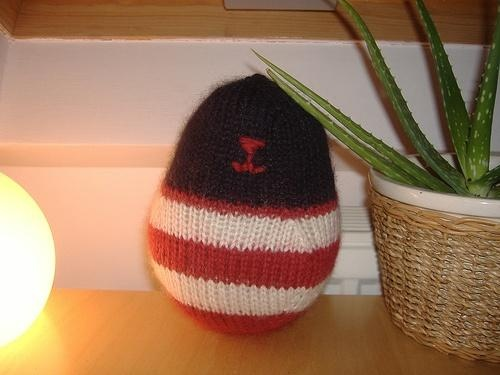pottedplant: (252, 2, 500, 370)
